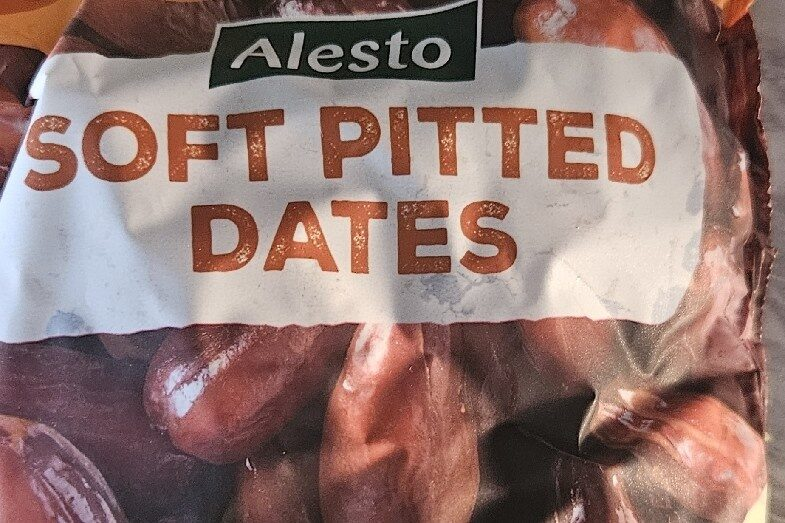Dates: (39, 26, 746, 497)
